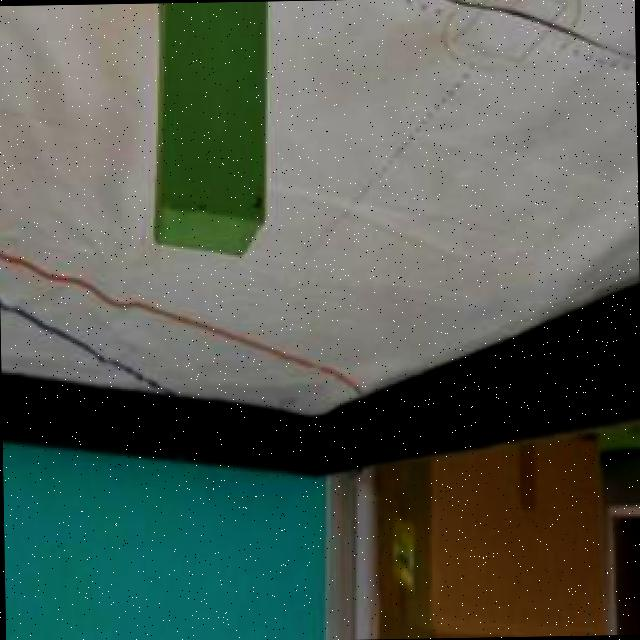greenbox: (148, 1, 274, 265)
